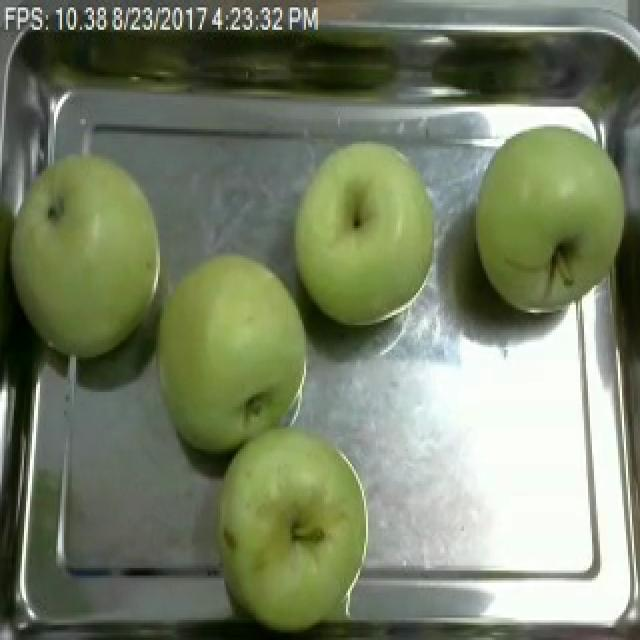50-_ripeness: (19, 160, 158, 370), (481, 124, 633, 315), (295, 132, 442, 324), (170, 260, 305, 454), (224, 436, 365, 619)
